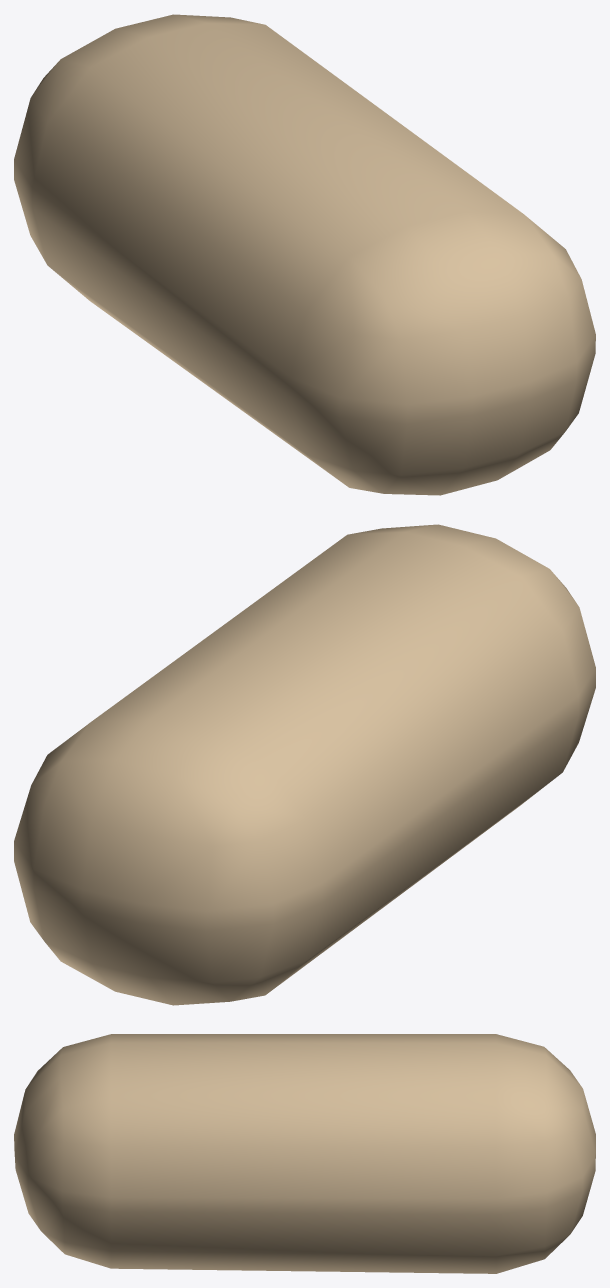
Rendered from KANTENSTEIN.glb.
3 renders of one model, top to bottom at view 1: azimuth 30°, elevation 25°; view 2: azimuth 150°, elevation 25°; view 3: azimuth 270°, elevation 25°, orthographic. The views are drawn at different scales.
Visible parts, largest first — view 1: KANTENSTEIN; view 2: KANTENSTEIN; view 3: KANTENSTEIN.
Part boxes in pixels (x1=…): KANTENSTEIN: x1=14, y1=14, x2=595, y2=495; KANTENSTEIN: x1=14, y1=524, x2=595, y2=1005; KANTENSTEIN: x1=14, y1=1034, x2=595, y2=1273.
Size of the model in its own units: 0.3036 by 0.2636 by 0.6951.
